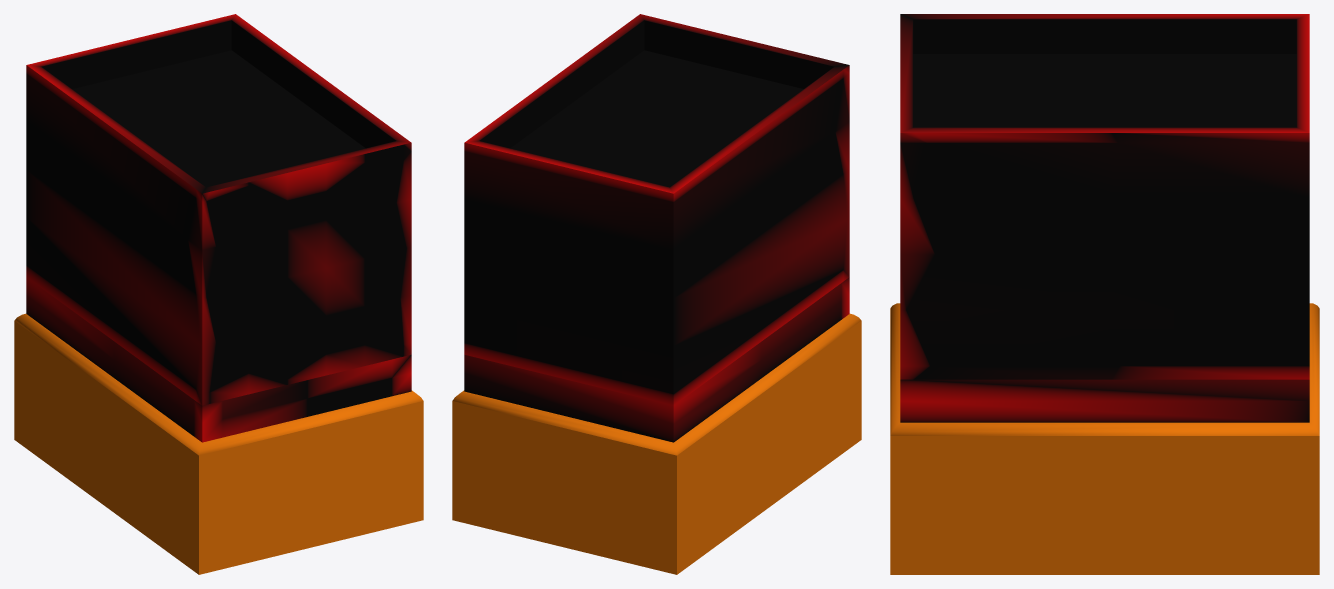
File: House9_collisionSetup.fbx
The picture shows the model from 3 angles, left to right: view 1: azimuth 30°, elevation 25°; view 2: azimuth 150°, elevation 25°; view 3: azimuth 270°, elevation 25°; orthographic projection. The views are drawn at different scales.
Parts seen in each view (by area): view 1: collisionCube.020, collisionConvex.209; view 2: collisionCube.020, collisionConvex.209; view 3: collisionCube.020, collisionConvex.209.
Boxes of the visible parts, bbox=[...] form: collisionCube.020: bbox=[26, 14, 411, 442]; collisionConvex.209: bbox=[14, 313, 423, 574]; collisionCube.020: bbox=[464, 14, 849, 442]; collisionConvex.209: bbox=[452, 313, 861, 574]; collisionCube.020: bbox=[900, 14, 1309, 422]; collisionConvex.209: bbox=[890, 303, 1319, 574].
Bounding box in the file's own units: 590 × 945 × 840.
